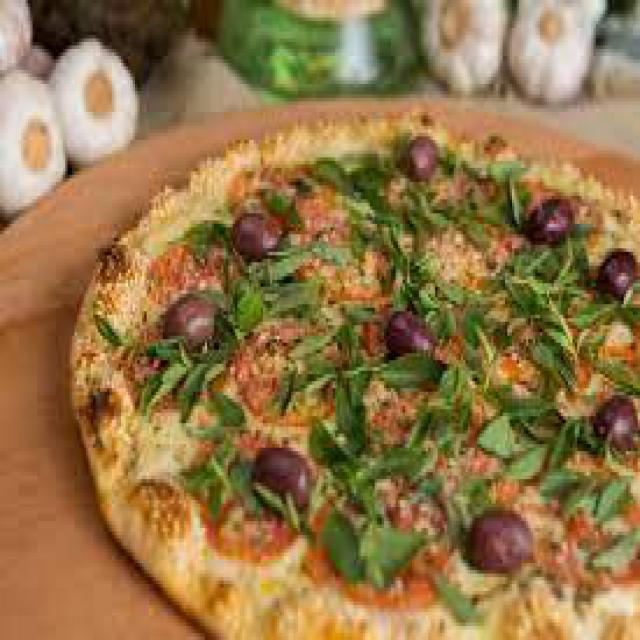pizza: (63, 105, 638, 636)
